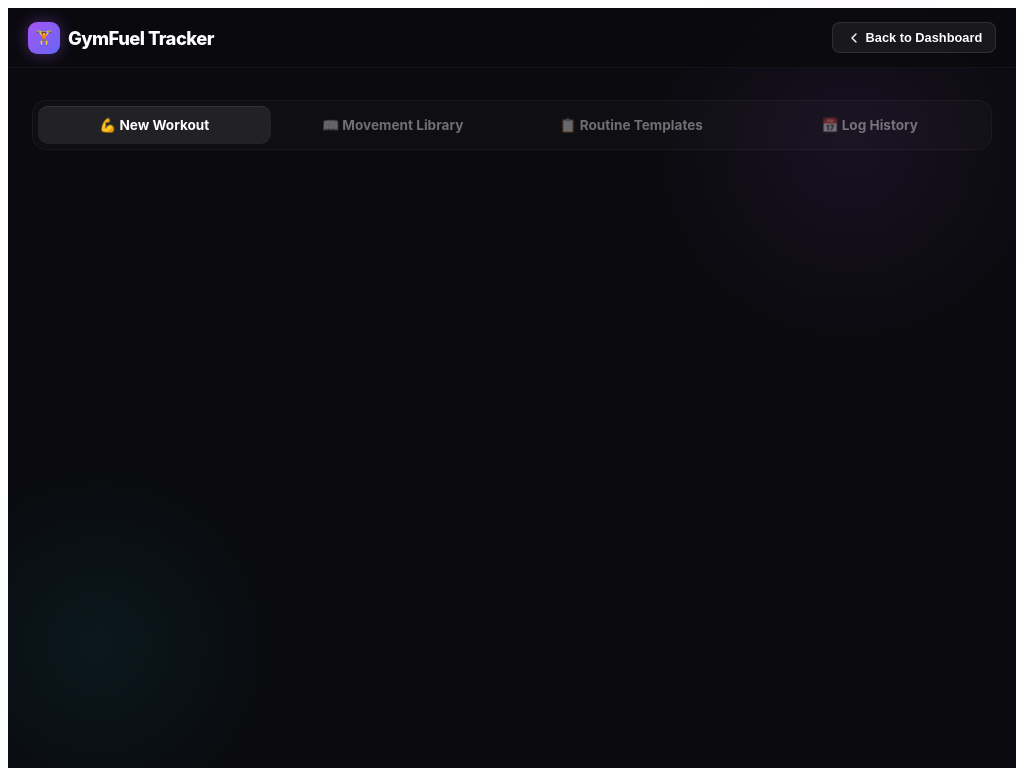
Test: WorkoutPage Component › loads and displays exercise library with search and filters
Click the button "📖 Movement Library". click: [393, 125]
box: [276,106,509,144]
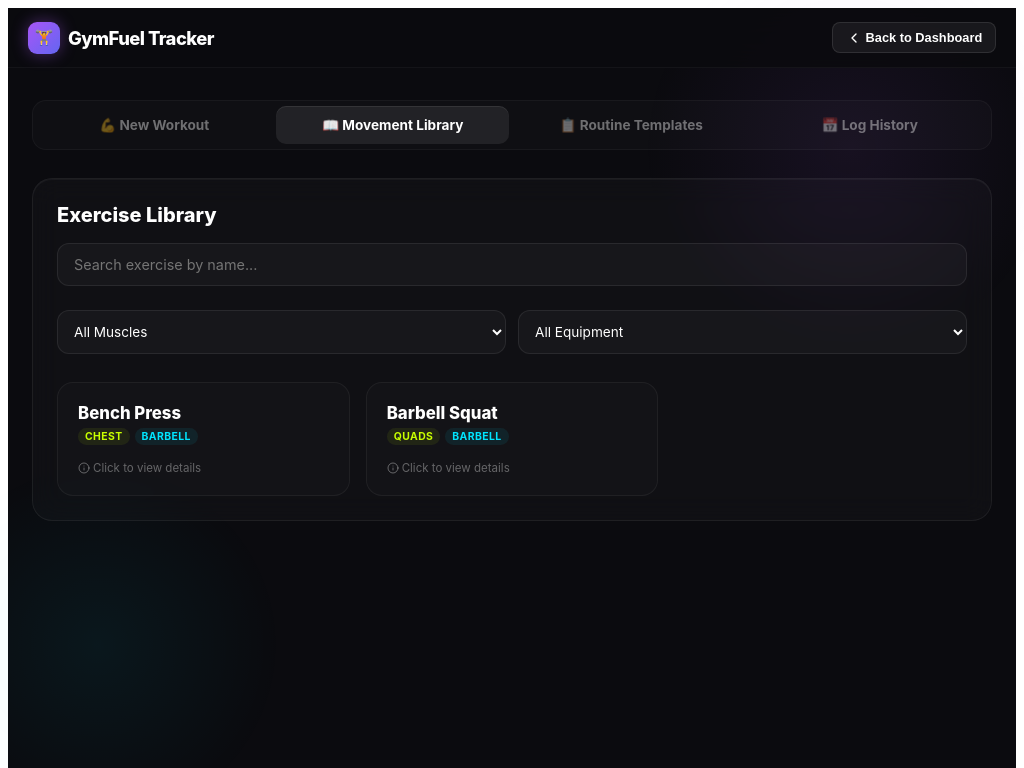
Check: the heading "Bench Press" is shown, box [78,403,181,423]
Check: the heading "Barbell Squat" is shown, box [387,403,498,423]
